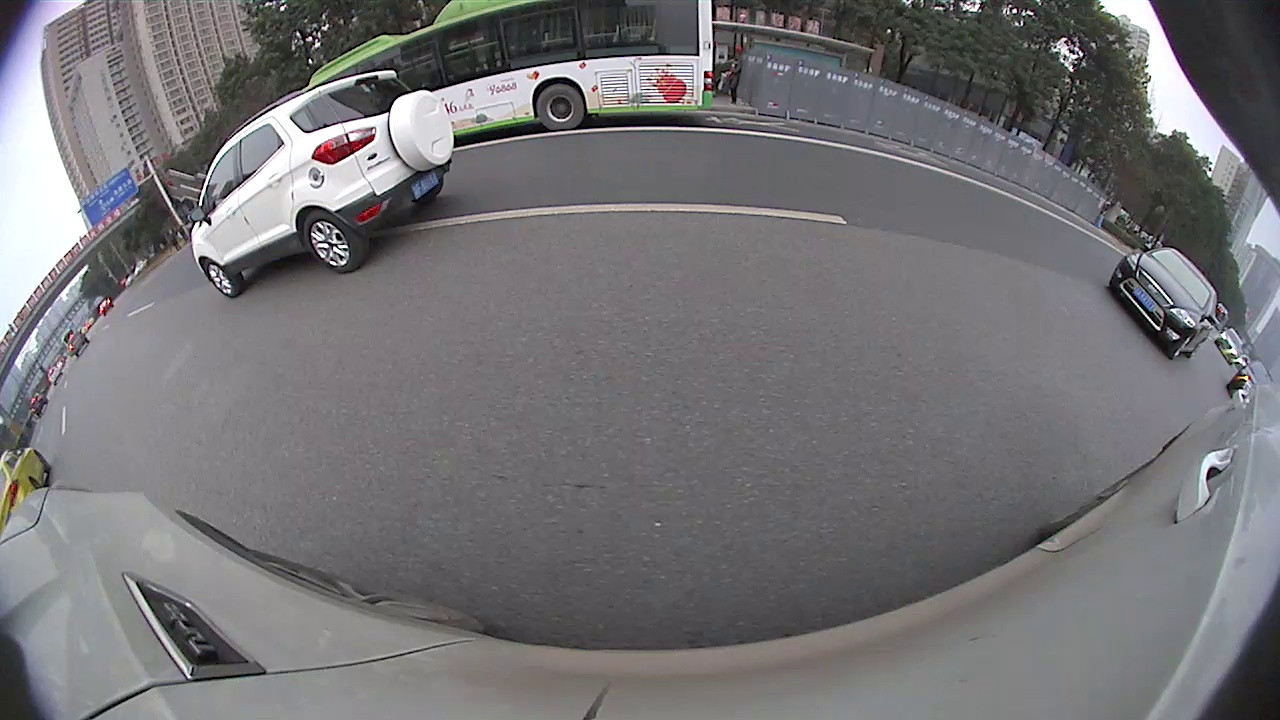bus: (310, 1, 714, 153)
car: (189, 68, 455, 299), (1106, 246, 1219, 362), (1, 446, 52, 530)
front: (199, 258, 247, 297), (1165, 336, 1196, 360)
rear: (305, 216, 371, 270), (534, 83, 587, 130)
